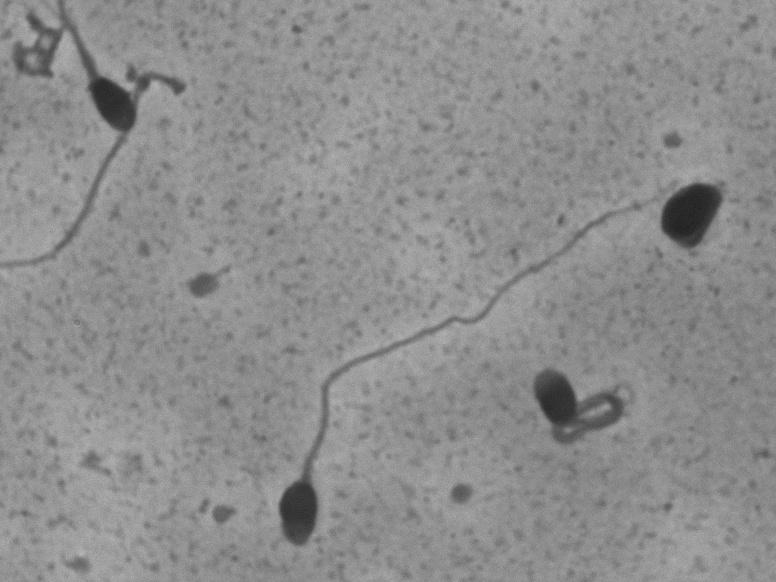Abnormal: (258, 163, 679, 558), (515, 351, 647, 472)
